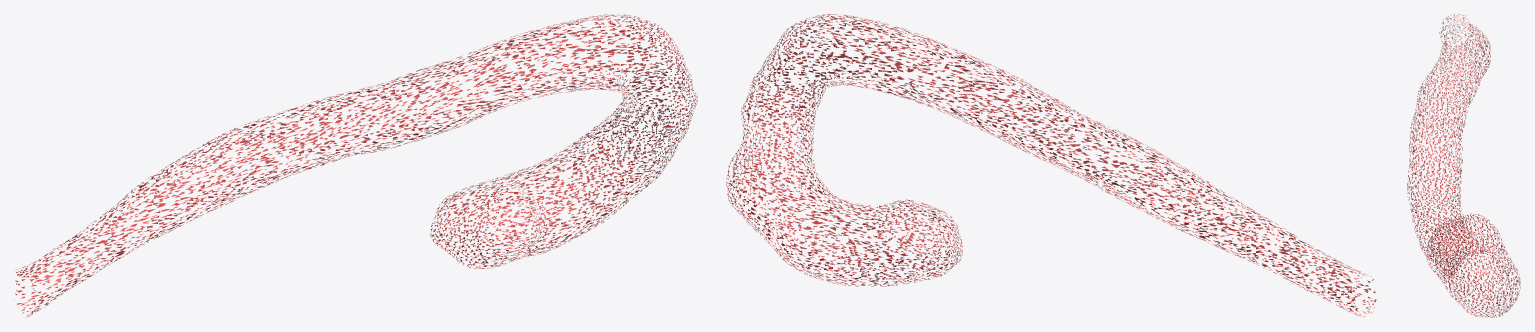
File: aorta.glb
3 renders of one model, left to right at view 1: azimuth 30°, elevation 25°; view 2: azimuth 150°, elevation 25°; view 3: azimuth 270°, elevation 25°, orthographic. The views are drawn at different scales.
Size of the model in its own units: 240 by 85.15 by 45.69.
